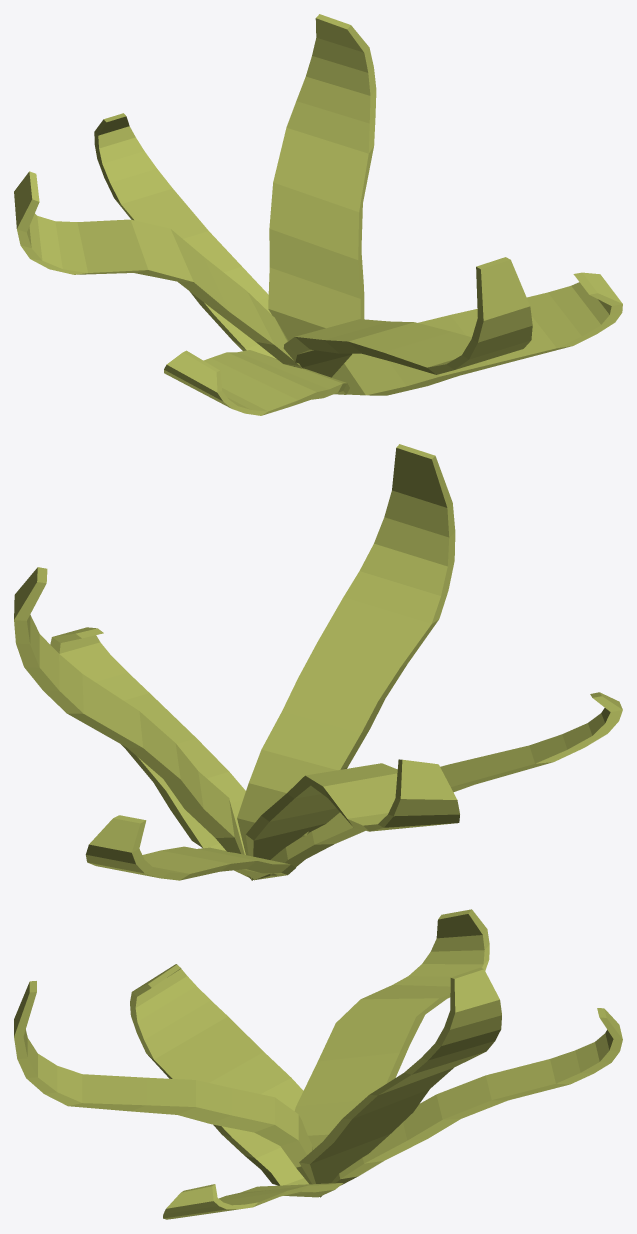
File: Dead Grass 001.fbx
3 views of the same model, one above another, from view 1: azimuth 30°, elevation 25°; view 2: azimuth 150°, elevation 25°; view 3: azimuth 270°, elevation 25° (orthographic). The views are drawn at different scales.
Parts seen in each view (by area): view 1: Cube.060; view 2: Cube.060; view 3: Cube.060.
Boxes of the visible parts, box(x1,y1,x2,y2) form: Cube.060: box(14, 14, 622, 415); Cube.060: box(14, 444, 622, 880); Cube.060: box(14, 909, 622, 1219).
Bounding box in the file's own units: 67.31 × 40.73 × 83.55.
